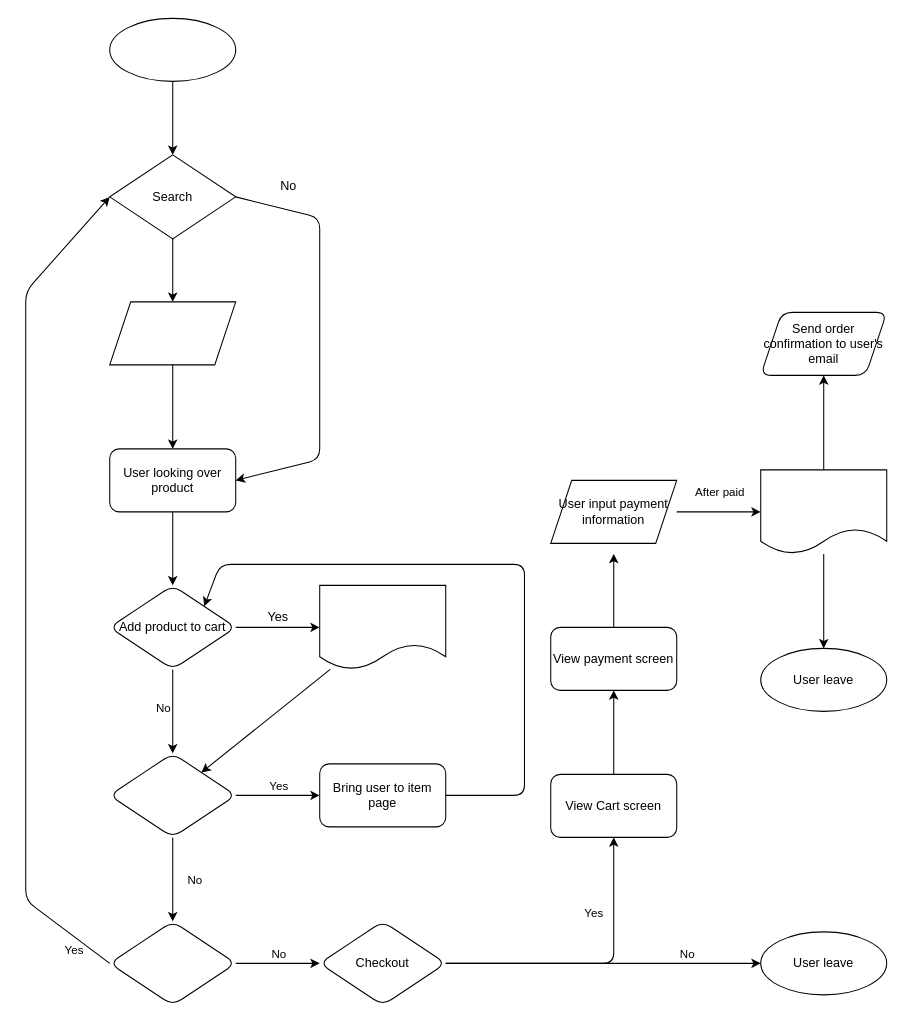
Image size: 905x1024. Some labels were removed from this diagram. The centre of each missing label's shape, as x and y in pixels:
"Confirmation added to cart" belongs at (x=382, y=626).
"Contiune shopping" belongs at (x=172, y=962).
"Show order confirmation" belongs at (x=823, y=511).
"User enter" belongs at (x=172, y=49).
"User's input" belongs at (x=172, y=333).
"Viewing speicific item" belongs at (x=172, y=794).
